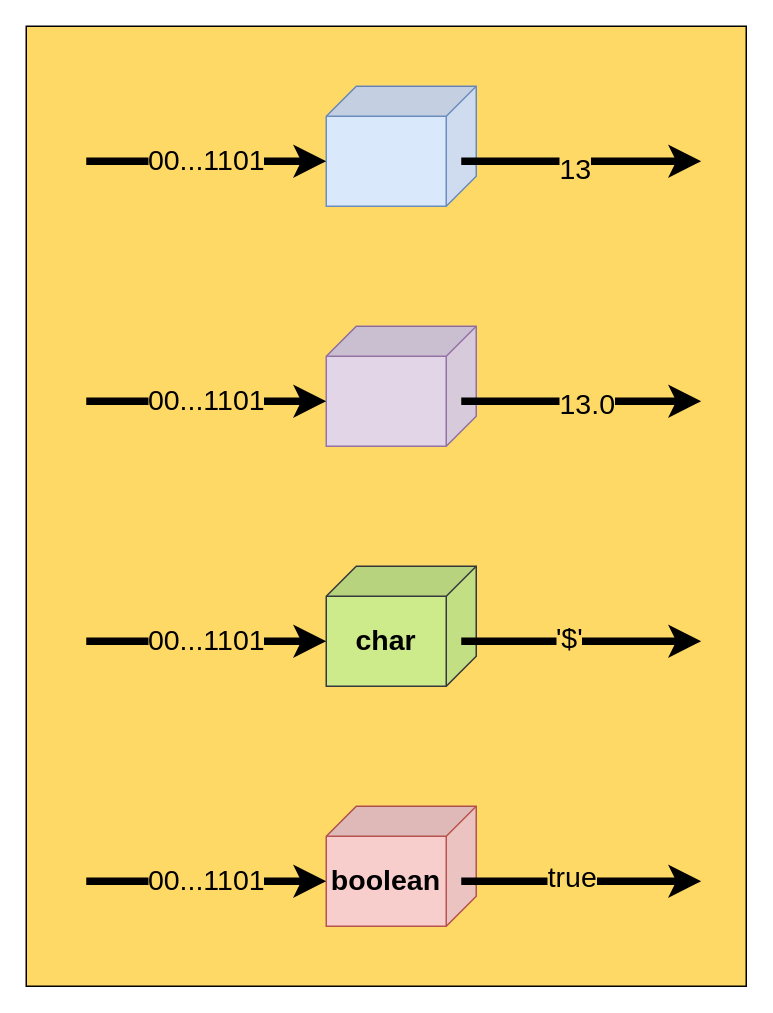
The diagram is 773 pixels wide and 1013 high, and some of its shapes have lost their labels. The centre of each missing label's shape, as x and y in pixels:
"float" belongs at point (400, 385).
"int" belongs at point (400, 145).
